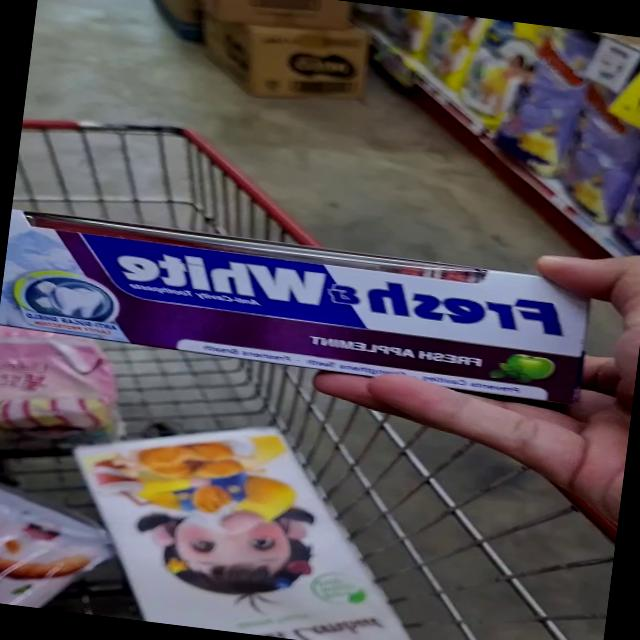Tisu: (96, 490, 438, 640), (76, 410, 346, 570)
Ubat Gigi: (0, 203, 591, 407)
